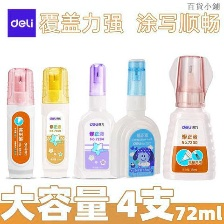correction_fluid: (162, 53, 219, 182), (69, 61, 127, 182), (107, 55, 162, 178), (3, 67, 36, 180), (39, 64, 71, 180)
